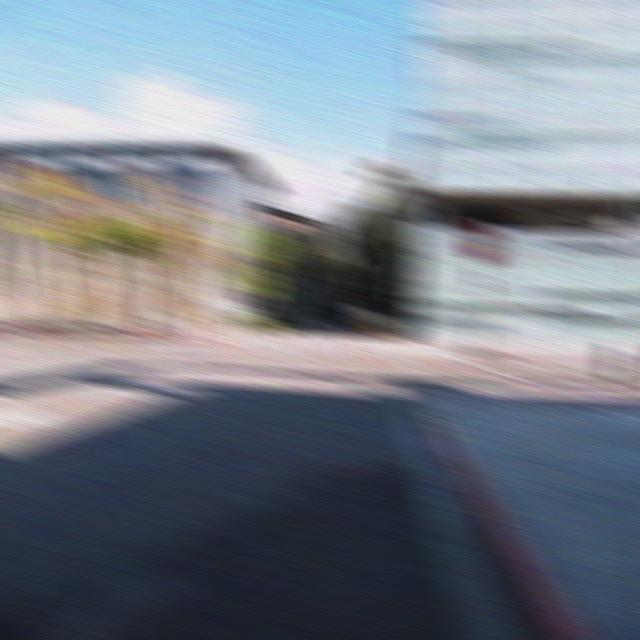stop: (462, 220, 502, 265)
